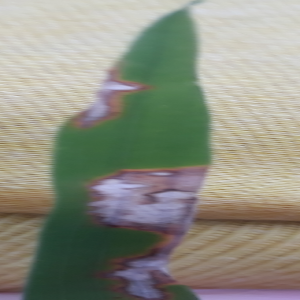Rice_Blast: (77, 156, 213, 237), (58, 70, 156, 136), (107, 246, 186, 300)
